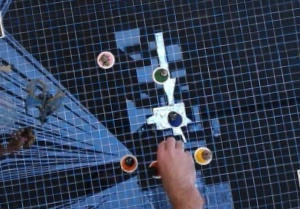blue: (165, 108, 184, 128)
green: (151, 64, 171, 83)
orange: (112, 150, 140, 174)
pink: (96, 47, 117, 70)
red: (145, 158, 167, 181)
yellow: (190, 141, 216, 166)
